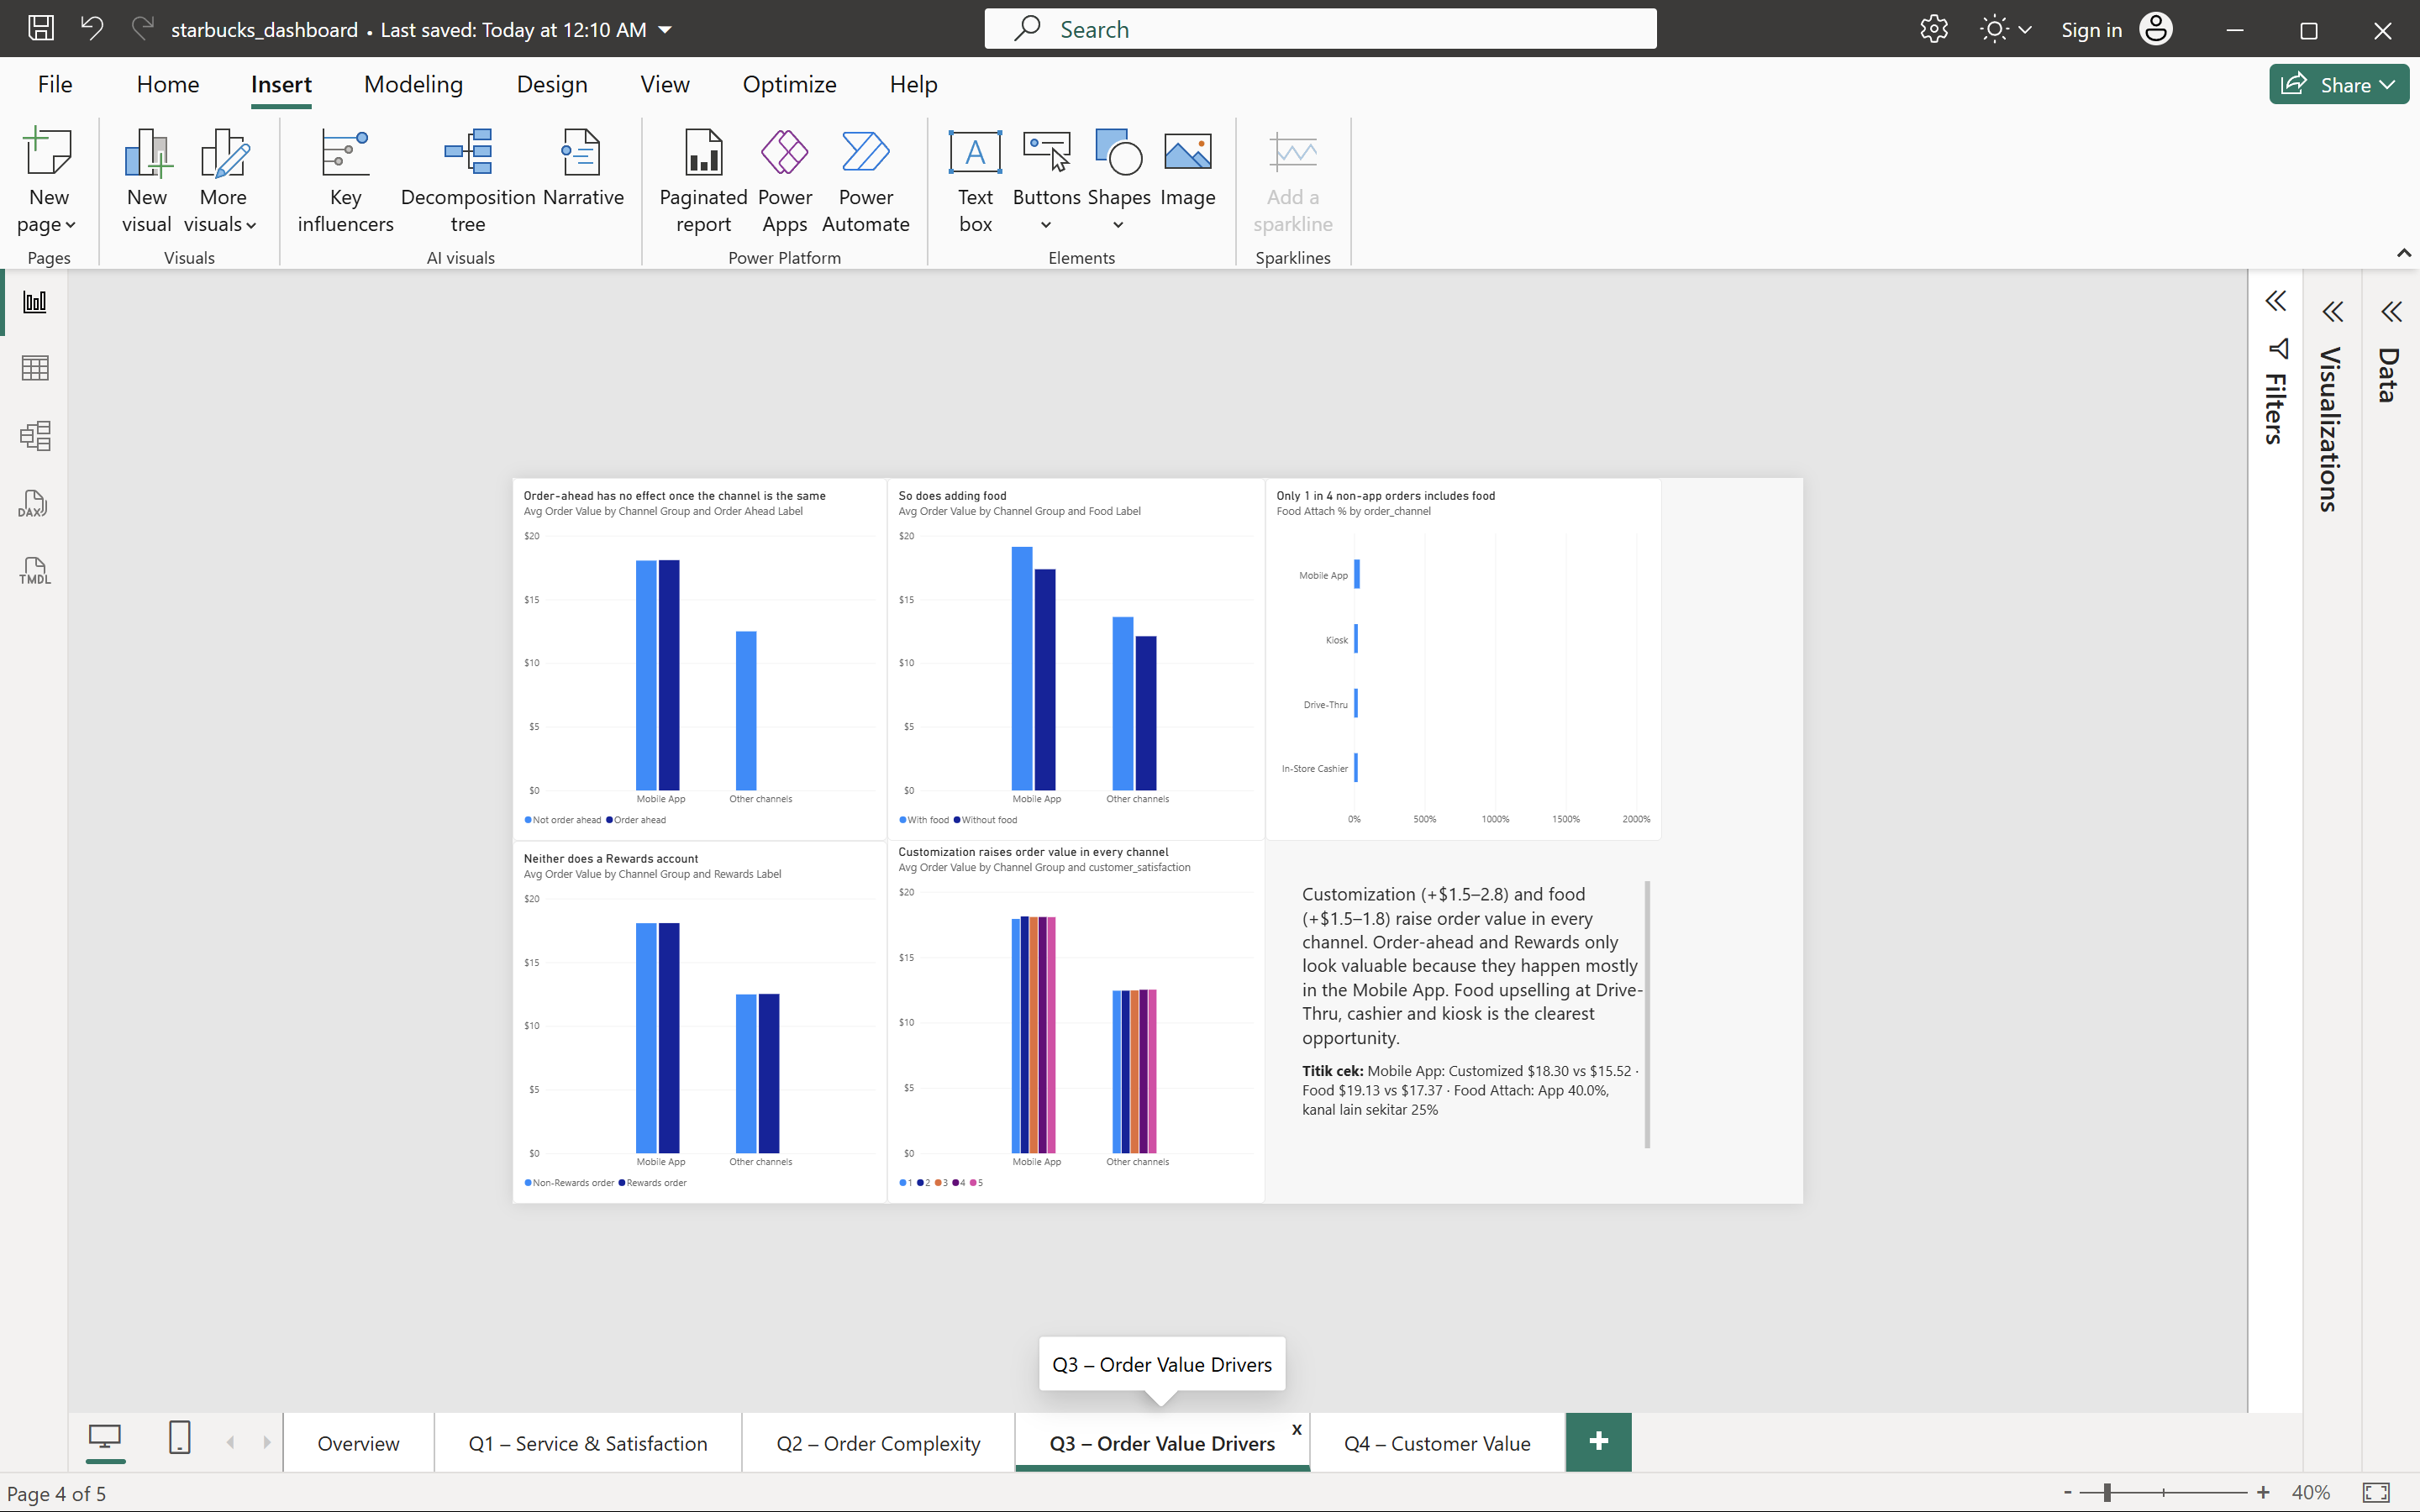

The page's visual inventory and layout, read from the dashboard file:
{"tool":"powerbi","page":{"name":"Q3 – Order Value Drivers","canvas":[1920,1080],"ordinal":3},"visuals":[{"type":"clusteredColumnChart","title":"Customization raises order value in every channel","fields":{"Category":["fact_orders.Channel Group"],"Series":["fact_orders.customer_satisfaction"],"Y":["fact_orders.Avg Order Value"]},"box":[557.5,530,562.5,550],"z":0},{"type":"clusteredColumnChart","title":"So does adding food","fields":{"Category":["fact_orders.Channel Group"],"Series":["fact_orders.Food Label"],"Y":["fact_orders.Avg Order Value"]},"box":[557.5,0,562.5,540],"z":1000},{"type":"clusteredColumnChart","title":"Order-ahead has no effect once the channel is the same","fields":{"Category":["fact_orders.Channel Group"],"Series":["fact_orders.Order Ahead Label"],"Y":["fact_orders.Avg Order Value"]},"box":[0,0,557.5,540],"z":2000},{"type":"clusteredColumnChart","title":"Neither does a Rewards account","fields":{"Category":["fact_orders.Channel Group"],"Series":["fact_orders.Rewards Label"],"Y":["fact_orders.Avg Order Value"]},"box":[0,540,557.5,540],"z":3000},{"type":"clusteredBarChart","title":"Only 1 in 4 non-app orders includes food","fields":{"Category":["fact_orders.order_channel"],"Y":["fact_orders.Food Attach %"]},"box":[1120,0,590,540],"z":4000},{"type":"textbox","box":[1175,600,517.5,470],"z":5000}]}

Visuals, with their boxes on the page's 1920x1080 design canvas (x1, y1, x2, y2). These are canvas units, not pixel positions in the 2420x1512 screenshot, which may show the page scaled, cropped or inside an application window:
"Customization raises order value in every channel" clusteredColumnChart: 558 530 1120 1080
"So does adding food" clusteredColumnChart: 558 0 1120 540
"Order-ahead has no effect once the channel is the same" clusteredColumnChart: 0 0 558 540
"Neither does a Rewards account" clusteredColumnChart: 0 540 558 1080
"Only 1 in 4 non-app orders includes food" clusteredBarChart: 1120 0 1710 540
textbox: 1175 600 1692 1070
